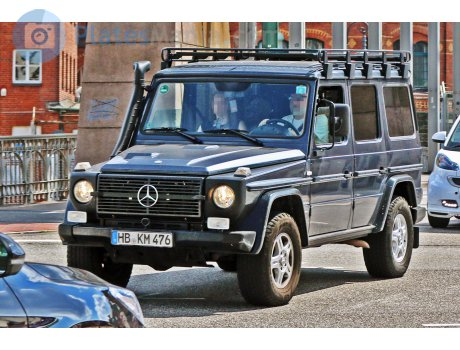License Plates: (122, 230, 169, 242)
